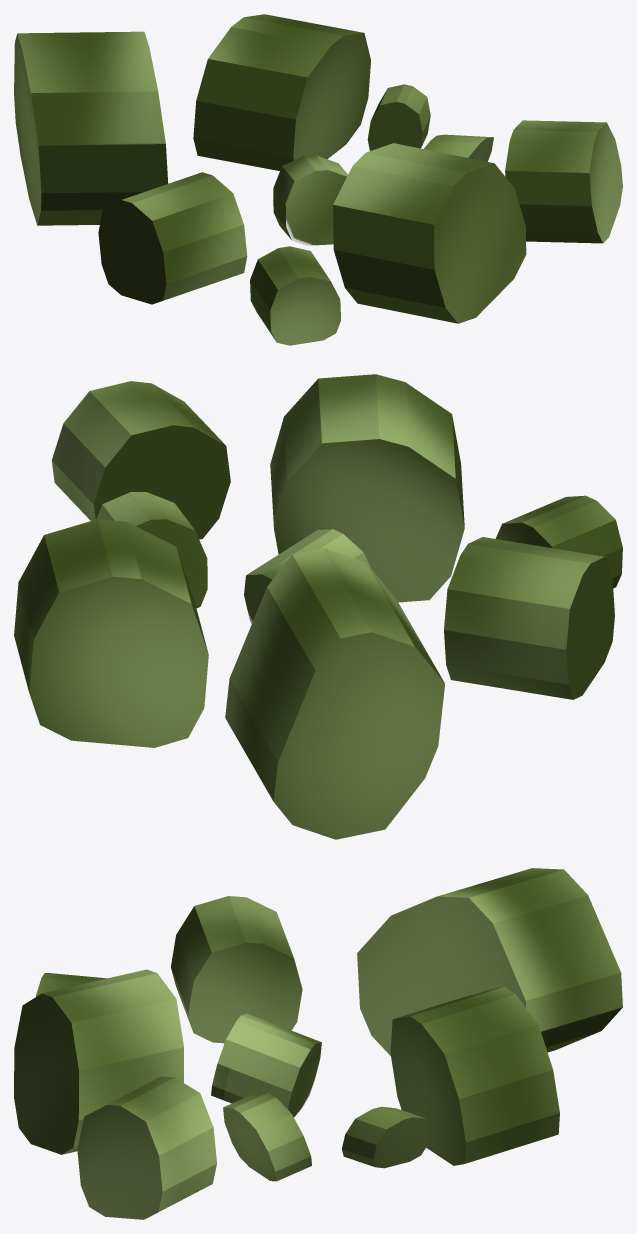
Rendered from fruta de pan picado.fbx.
The picture shows the model from 3 angles, top to bottom: view 1: azimuth 30°, elevation 25°; view 2: azimuth 150°, elevation 25°; view 3: azimuth 270°, elevation 25°; orthographic projection. The views are drawn at different scales.
Parts seen in each view (by area): view 1: Cube.005; view 2: Cube.005; view 3: Cube.005.
Boxes of the visible parts, left/top/right/bottom form: Cube.005: left=14, top=14, right=622, bottom=345; Cube.005: left=14, top=374, right=622, bottom=839; Cube.005: left=14, top=868, right=622, bottom=1219.
Bounding box in the file's own units: 71.31 × 26.95 × 75.32.
Materials: 1 (1 with a texture image).
